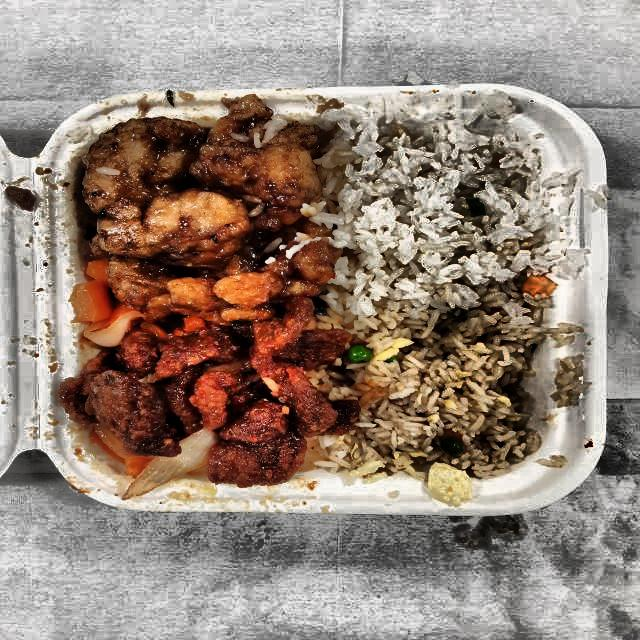Food: (67, 94, 332, 308), (60, 310, 358, 490), (326, 114, 564, 316), (329, 314, 562, 486)
